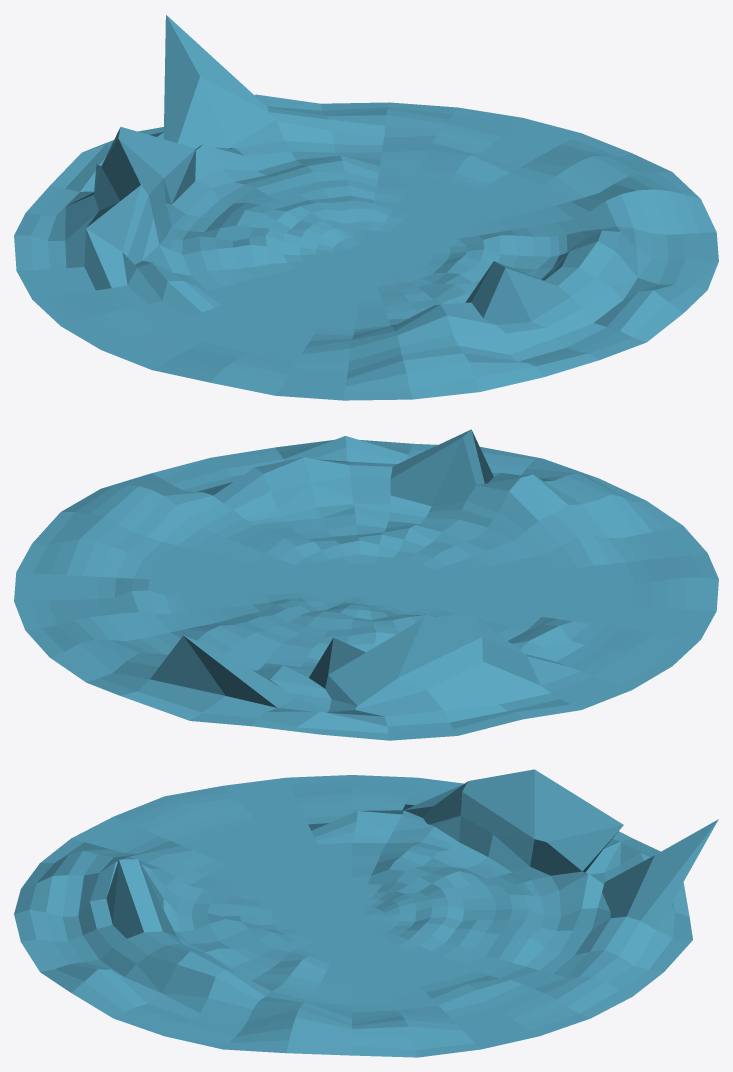
The model's file is terrain1.glb.
3 renders of one model, top to bottom at view 1: azimuth 30°, elevation 25°; view 2: azimuth 150°, elevation 25°; view 3: azimuth 270°, elevation 25°, orthographic. The views are drawn at different scales.
Parts seen in each view (by area): view 1: Circle; view 2: Circle; view 3: Circle.
Boxes of the visible parts, bbox=[...] form: Circle: bbox=[14, 15, 718, 400]; Circle: bbox=[14, 429, 718, 740]; Circle: bbox=[14, 769, 718, 1057].
Size of the model in its own units: 2 by 0.3091 by 2.09.
